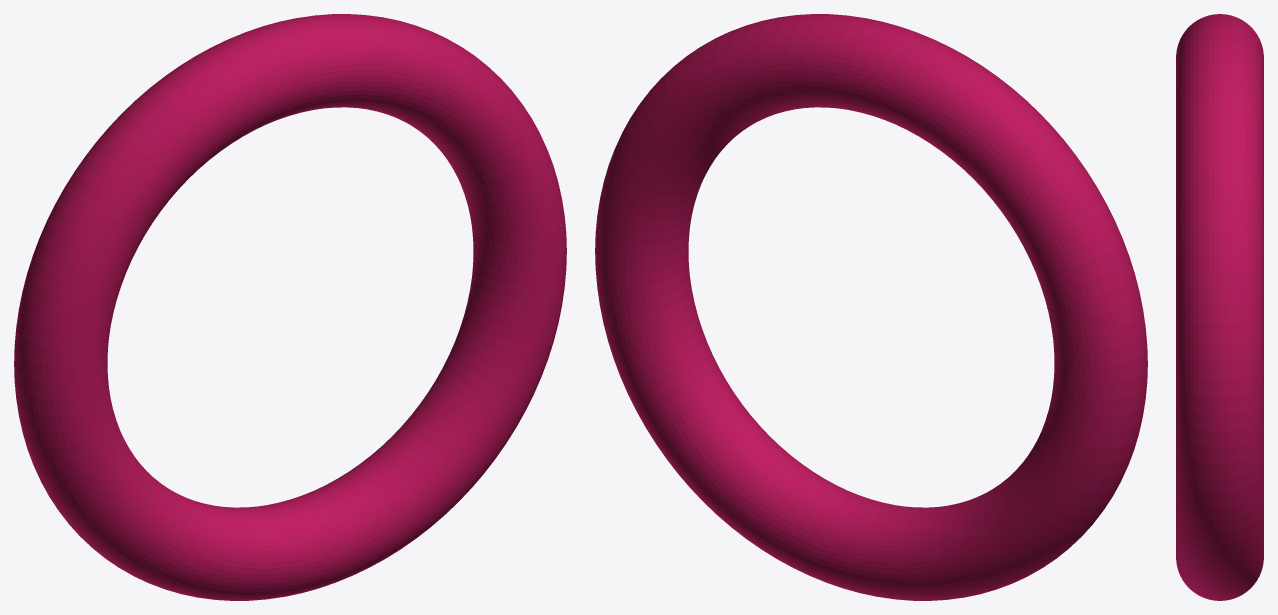
3 renders of one model, left to right at view 1: azimuth 30°, elevation 25°; view 2: azimuth 150°, elevation 25°; view 3: azimuth 270°, elevation 25°, orthographic. The views are drawn at different scales.
Parts seen in each view (by area): view 1: world; view 2: world; view 3: world.
Part boxes in pixels (x1,y1,x2,y2): world: (14,14,566,600); world: (595,14,1147,600); world: (1176,14,1263,600).
Bounding box in the file's own units: 32.93 × 32.93 × 4.92.
